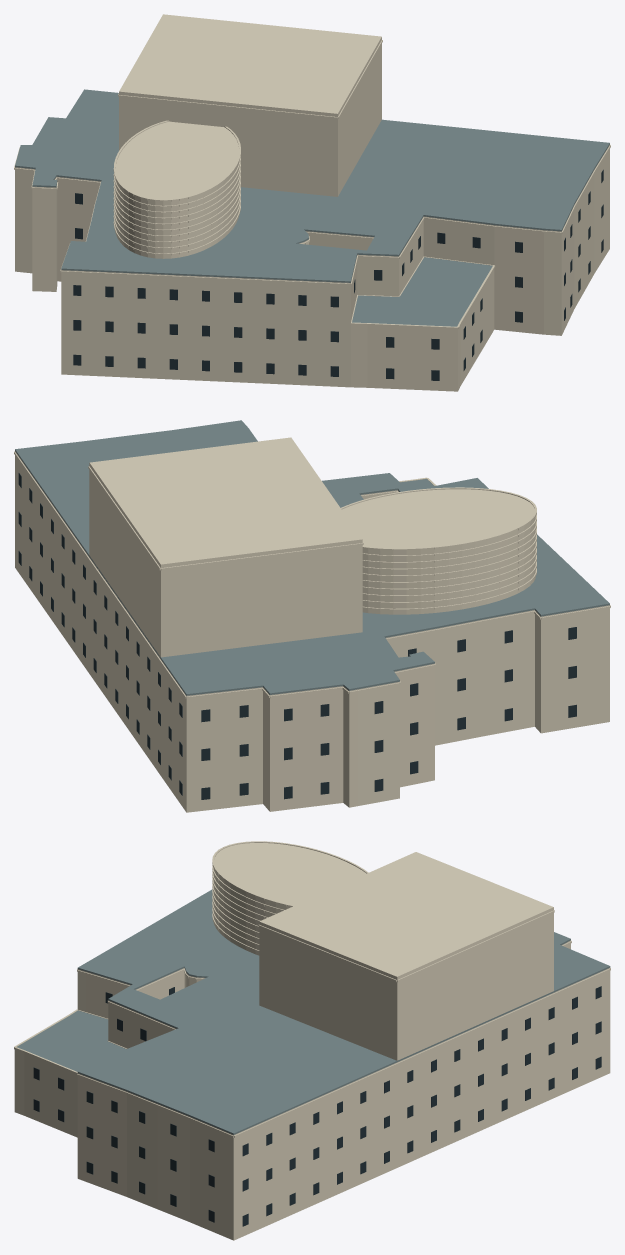
Rendered from la-scala.glb.
The picture shows the model from 3 angles, top to bottom: view 1: azimuth 30°, elevation 25°; view 2: azimuth 150°, elevation 25°; view 3: azimuth 270°, elevation 25°; orthographic projection. The views are drawn at different scales.
Visible parts, largest first — view 1: primary-envelope, primary-roof, stage-tower, botta-ellipse, mapped-part, mapped-roof, window-rhythm, ellipse-bands, cornice, stage-cornice; view 2: primary-envelope, stage-tower, primary-roof, botta-ellipse, ellipse-bands, window-rhythm, cornice, stage-cornice; view 3: primary-envelope, stage-tower, primary-roof, botta-ellipse, window-rhythm, mapped-part, mapped-roof, cornice, ellipse-bands, stage-cornice.
Boxes of the visible parts, <box> form: primary-envelope: <box>15,145,609,387</box>; primary-roof: <box>15,89,609,282</box>; stage-tower: <box>119,14,381,196</box>; botta-ellipse: <box>115,121,239,258</box>; mapped-part: <box>351,269,494,391</box>; mapped-roof: <box>352,257,492,326</box>; window-rhythm: <box>73,169,603,380</box>; ellipse-bands: <box>113,120,240,255</box>; cornice: <box>14,145,610,329</box>; stage-cornice: <box>118,40,382,119</box>; primary-envelope: <box>15,451,609,812</box>; stage-tower: <box>89,437,362,657</box>; primary-roof: <box>15,420,609,695</box>; botta-ellipse: <box>342,489,535,614</box>; ellipse-bands: <box>341,487,536,611</box>; window-rhythm: <box>18,473,576,799</box>; cornice: <box>14,451,610,698</box>; stage-cornice: <box>88,466,363,570</box>; primary-envelope: <box>77,940,610,1240</box>; stage-tower: <box>259,852,553,1060</box>; primary-roof: <box>77,889,610,1134</box>; botta-ellipse: <box>213,843,366,955</box>; window-rhythm: <box>33,986,601,1226</box>; mapped-part: <box>14,1049,77,1137</box>; mapped-roof: <box>16,1010,125,1071</box>; cornice: <box>14,940,610,1137</box>; ellipse-bands: <box>212,841,368,952</box>; stage-cornice: <box>258,910,554,981</box>.
Size of the model in its own units: 16 by 5.34 by 15.11.
